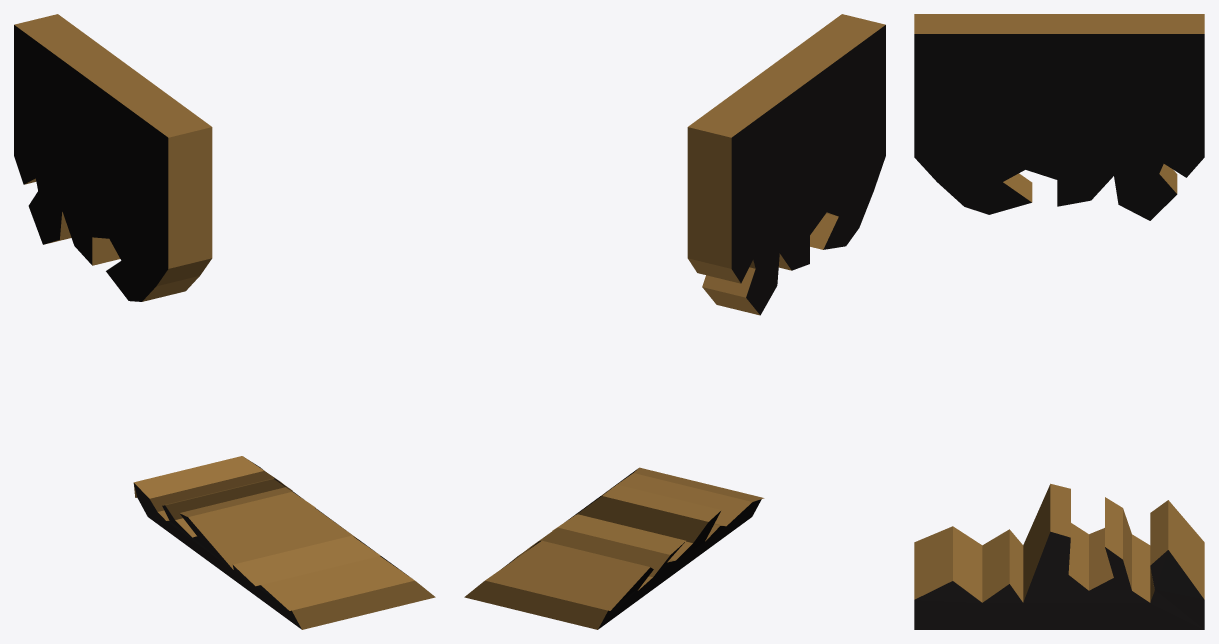
The picture shows the model from 3 angles, left to right: view 1: azimuth 30°, elevation 25°; view 2: azimuth 150°, elevation 25°; view 3: azimuth 270°, elevation 25°; orthographic projection. The views are drawn at different scales.
Bounding box in the file's own units: 1 × 1.88 × 1.
